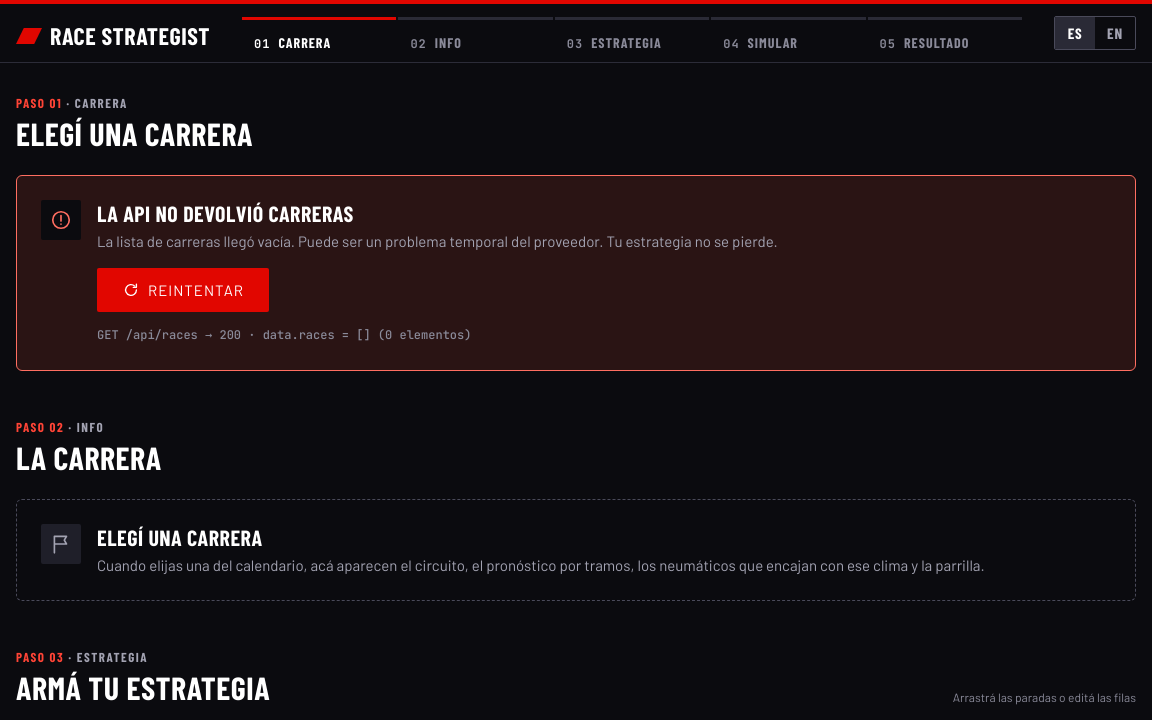
Test: App › switches the whole UI to English
The image size is (1152, 720).
Click the button "EN" at (1115,33), box 1095,17 -> 1135,49
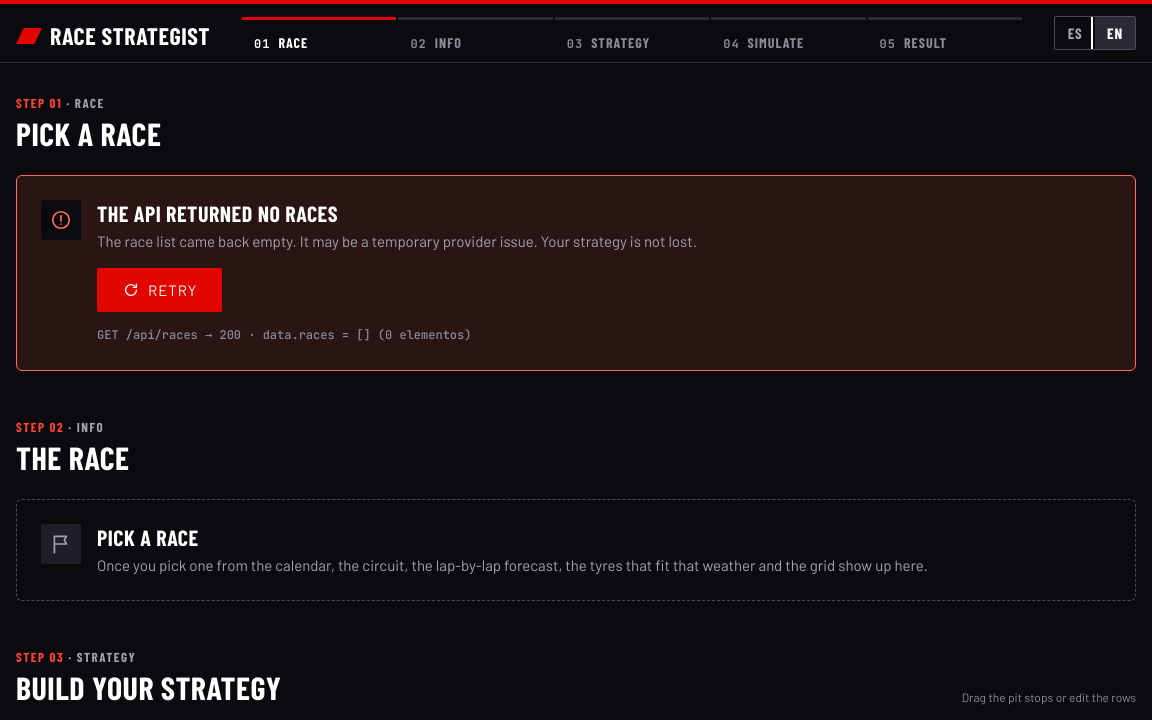
Expected: the navigation bar named "Steps" is shown, 242,17 -> 1022,62
